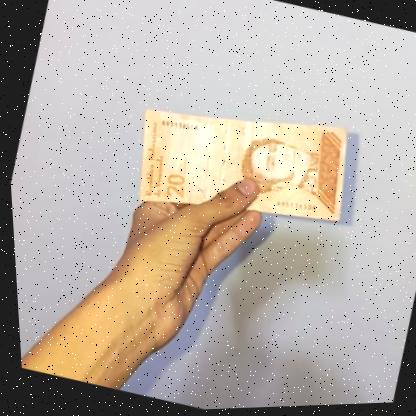twenty-front-vef: (118, 78, 360, 254)
